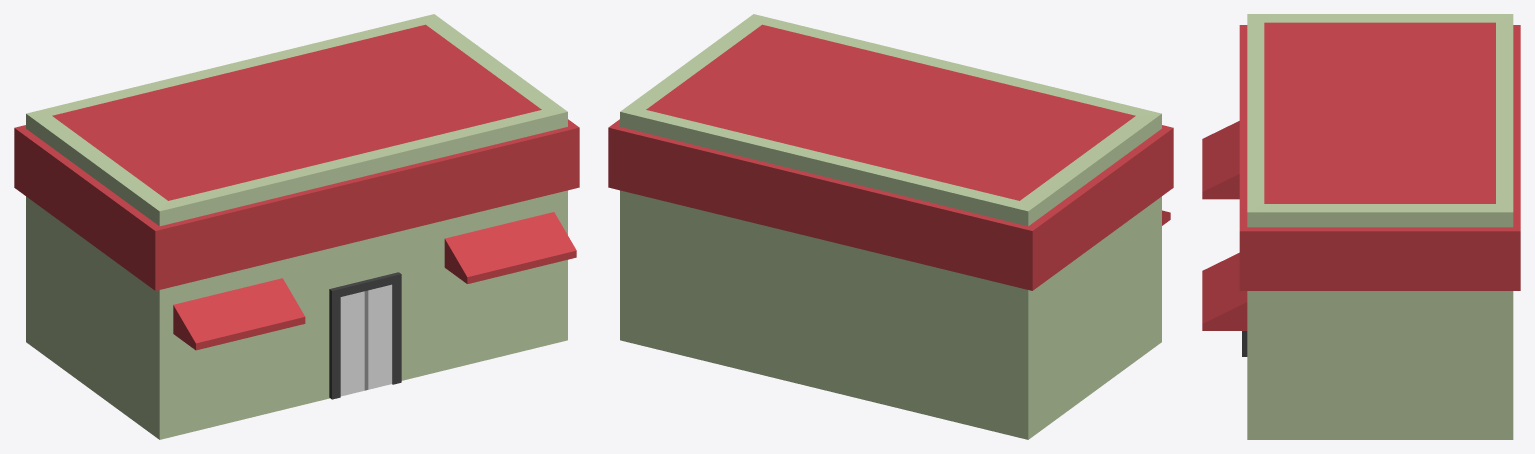
File: Shop_2.FBX
The picture shows the model from 3 angles, left to right: view 1: azimuth 30°, elevation 25°; view 2: azimuth 150°, elevation 25°; view 3: azimuth 270°, elevation 25°; orthographic projection.
Parts seen in each view (by area): view 1: Shop 02; view 2: Shop 02; view 3: Shop 02.
Boxes of the visible parts, left/top/right/bottom form: Shop 02: left=14, top=14, right=579, bottom=439; Shop 02: left=608, top=14, right=1173, bottom=439; Shop 02: left=1202, top=14, right=1520, bottom=439.
Size of the model in its own units: 10.61 by 5.46 by 6.93.
1 material, 1 textured.
